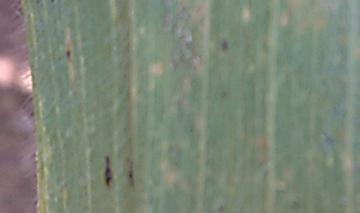tarspot: (101, 153, 115, 187), (124, 157, 137, 188), (218, 37, 230, 52), (214, 203, 225, 213), (64, 47, 73, 59), (48, 1, 57, 5), (34, 1, 42, 5)
